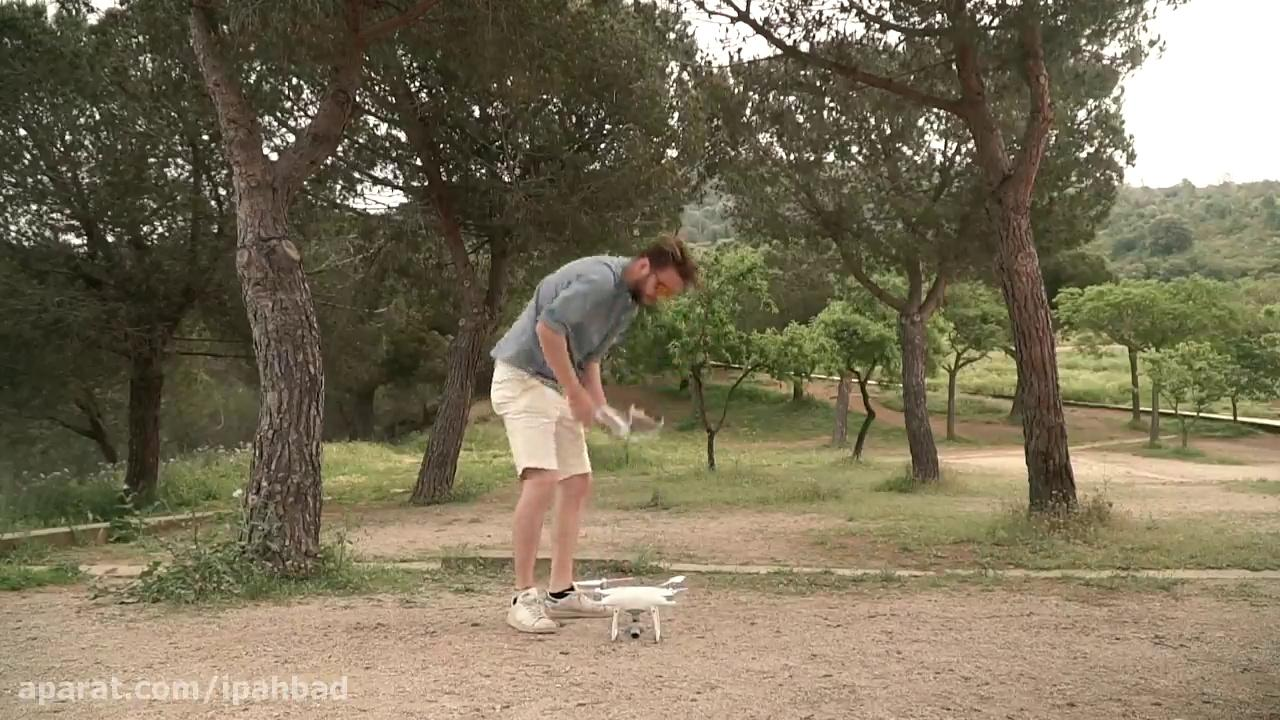drone: (572, 565, 691, 645)
